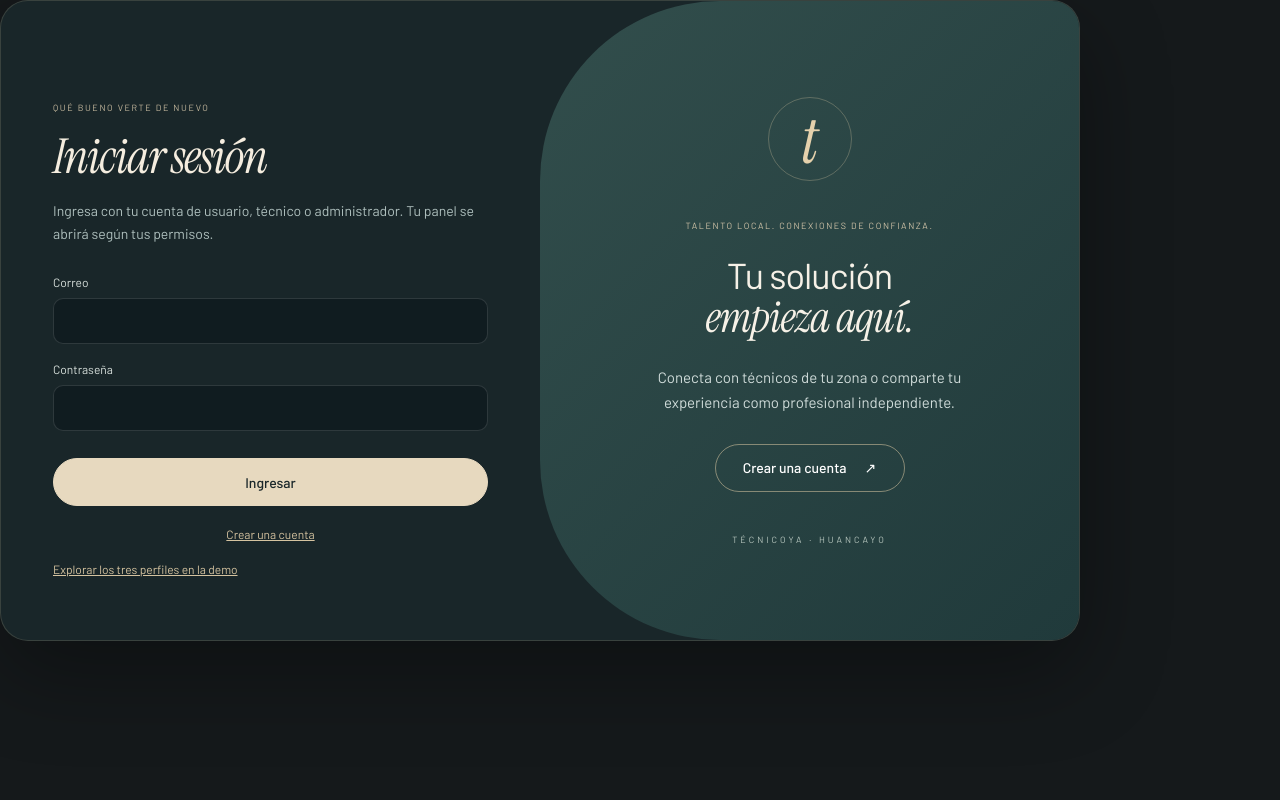
Test: registration returns to login without signing in and clears password
Click the button "Crear una cuenta ↗" at (810, 468), box [714,444,904,492]
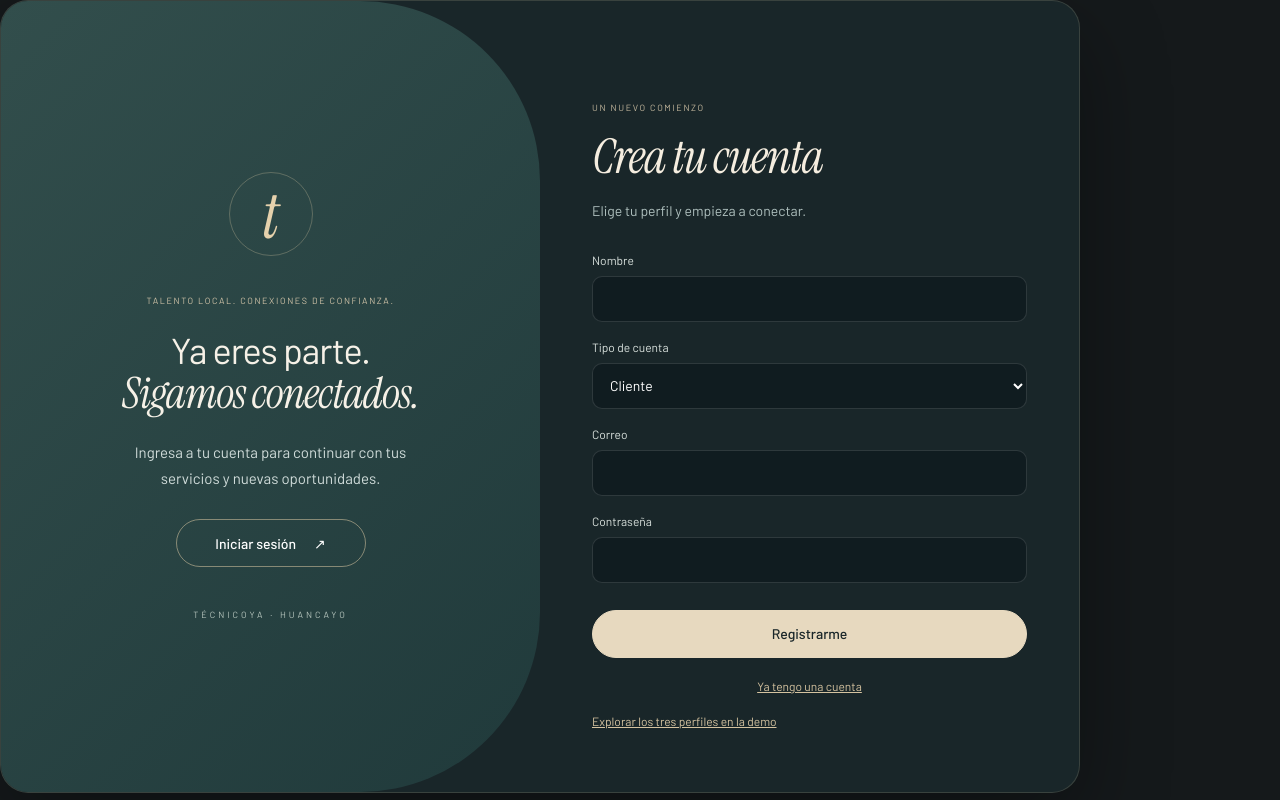
Type "Cuenta de prueba" into the field labelled "Nombre" at (810, 299), box [592,276,1027,322]
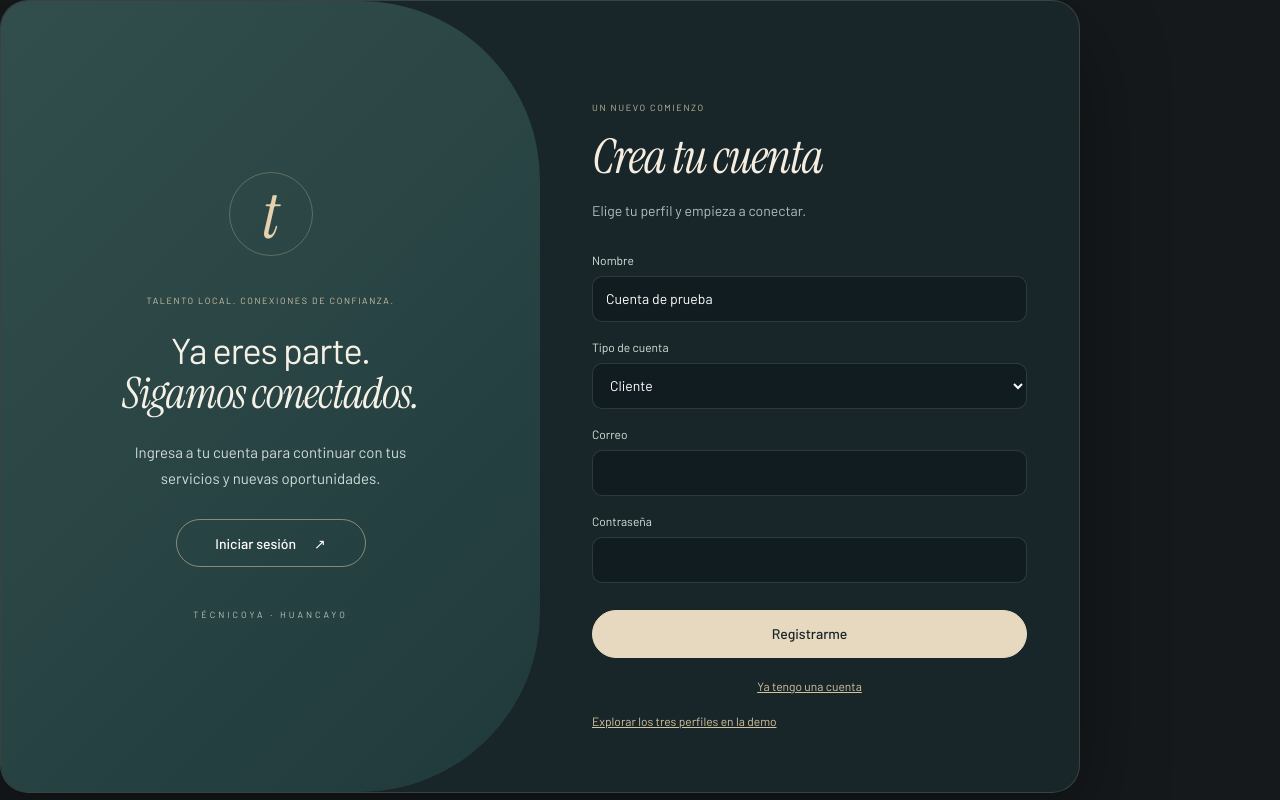
Type "prueba@example.test" into the field labelled "Correo" at (810, 473), box [592,450,1027,496]
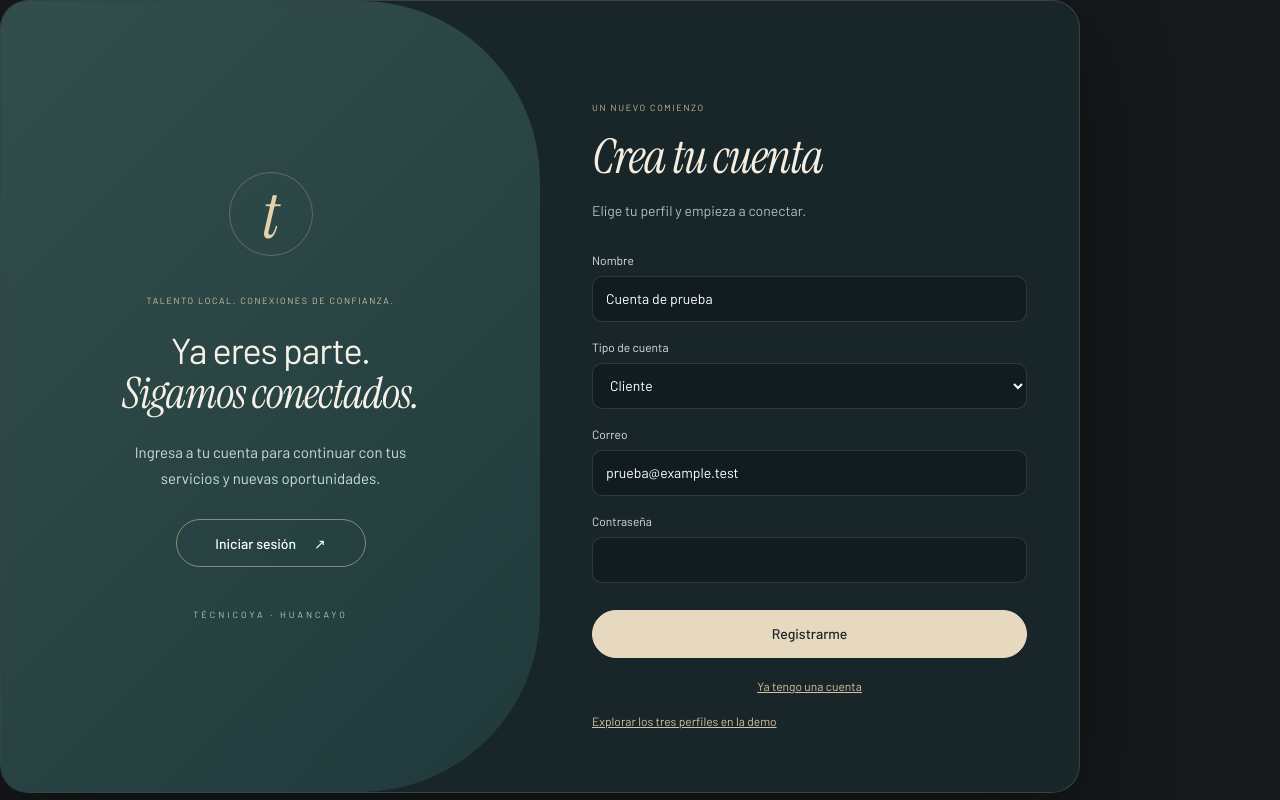
Type "Prueba123!" into the password field labelled "Contraseña" at (810, 560), box [592,537,1027,583]
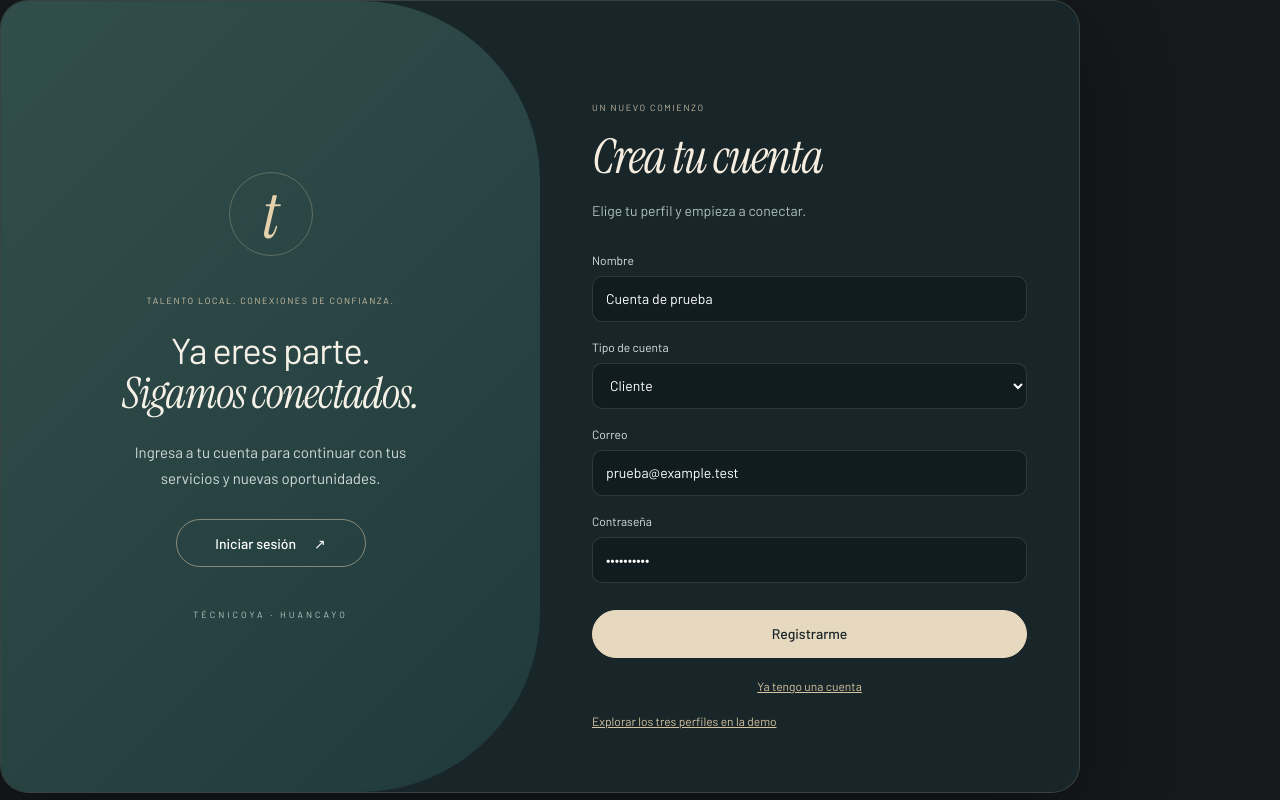
Submit the form, box [592,95,1027,728]
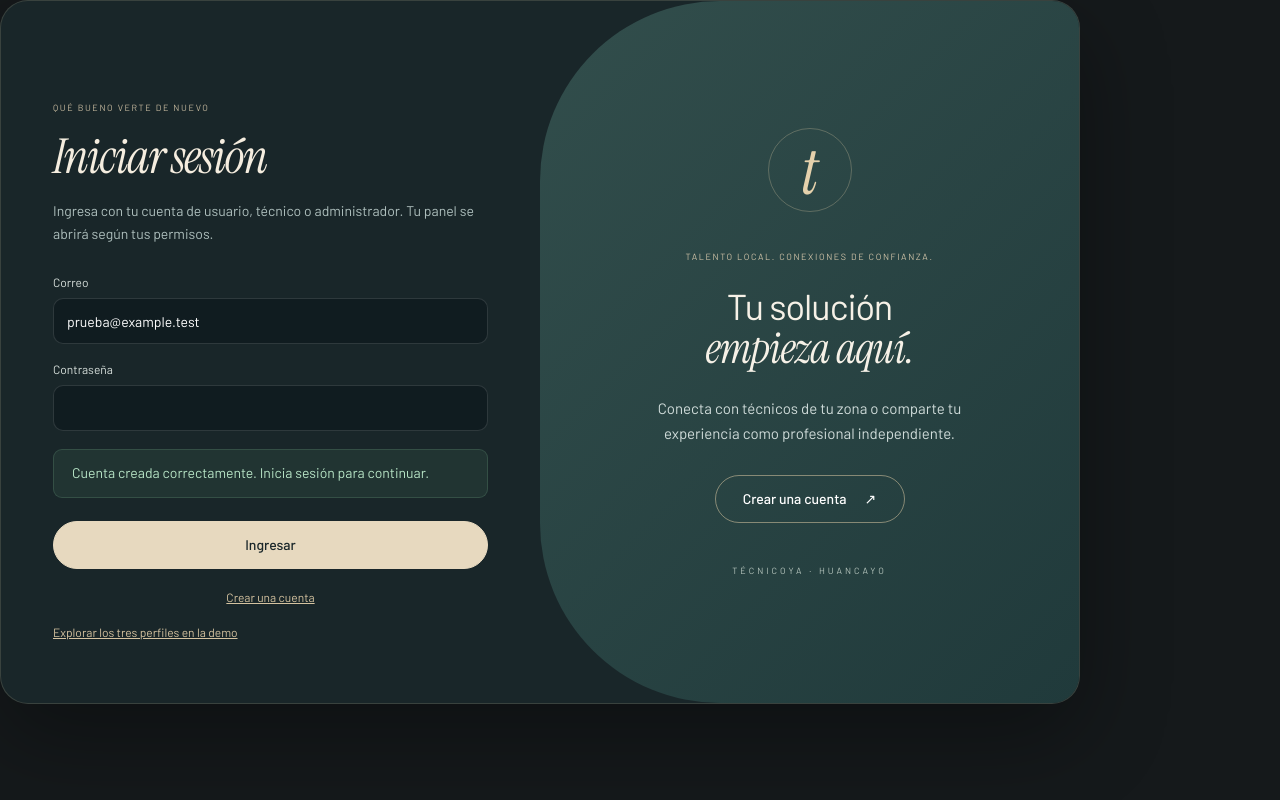
expect the field labelled "Correo" holds "prueba@example.test": met, box [53,298,488,344]
expect the heading "Iniciar sesión" is shown: met, box [53,125,266,188]
expect the password field labelled "Contraseña" is empty: met, box [53,385,488,431]
